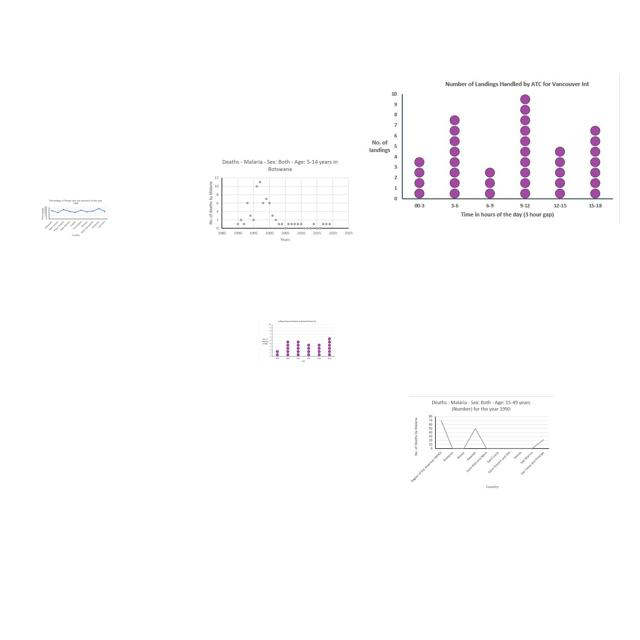Graph: (362, 75, 620, 224), (409, 396, 553, 493), (204, 157, 354, 243), (259, 319, 335, 364), (40, 198, 109, 238)
